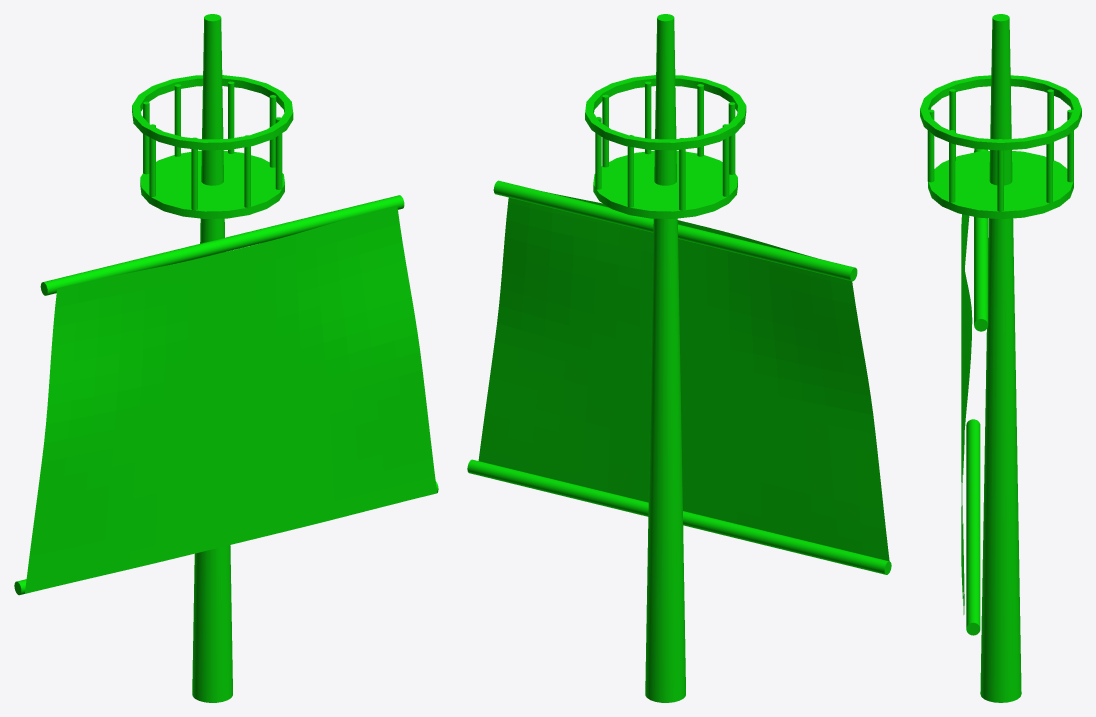
Rendered from Ship_Mast.fbx.
The picture shows the model from 3 angles, left to right: view 1: azimuth 30°, elevation 25°; view 2: azimuth 150°, elevation 25°; view 3: azimuth 270°, elevation 25°; orthographic projection.
Parts seen in each view (by area): view 1: Mast; view 2: Mast; view 3: Mast.
Boxes of the visible parts, box(x1,y1,x2,y2) form: Mast: box(14, 14, 438, 702); Mast: box(467, 14, 891, 702); Mast: box(920, 14, 1081, 702).
Bounding box in the file's own units: 98.98 × 153 × 33.29.
